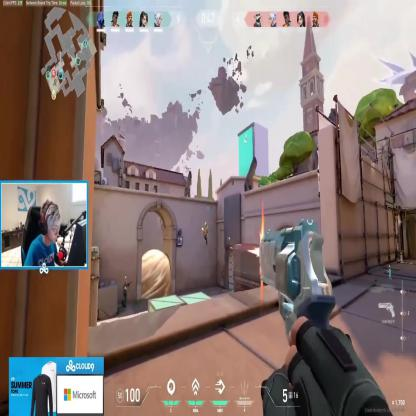enemy: (203, 222, 208, 244)
enemy_head: (204, 221, 207, 226)
